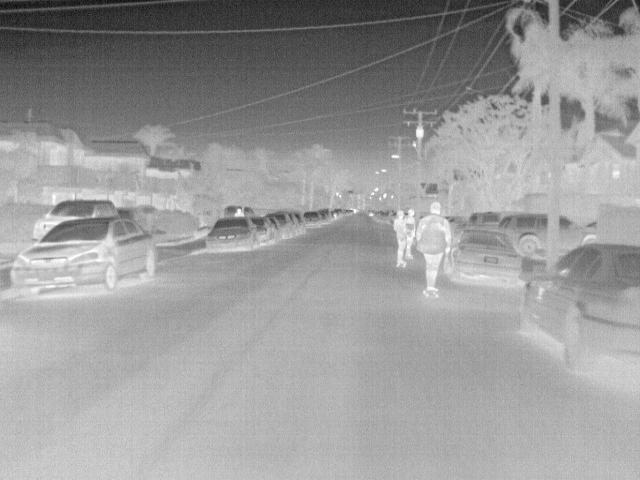car: (517, 244, 639, 377), (8, 215, 159, 294), (443, 230, 523, 285), (31, 199, 115, 243), (497, 214, 549, 258), (203, 218, 258, 252), (562, 213, 596, 250), (449, 210, 500, 230), (265, 212, 291, 237), (253, 213, 274, 242), (262, 218, 282, 240), (281, 212, 301, 233), (302, 210, 323, 229), (223, 206, 253, 218), (374, 210, 390, 224), (317, 212, 330, 224)
person: (414, 200, 450, 292), (392, 208, 407, 268), (403, 206, 415, 258), (232, 207, 247, 218)
